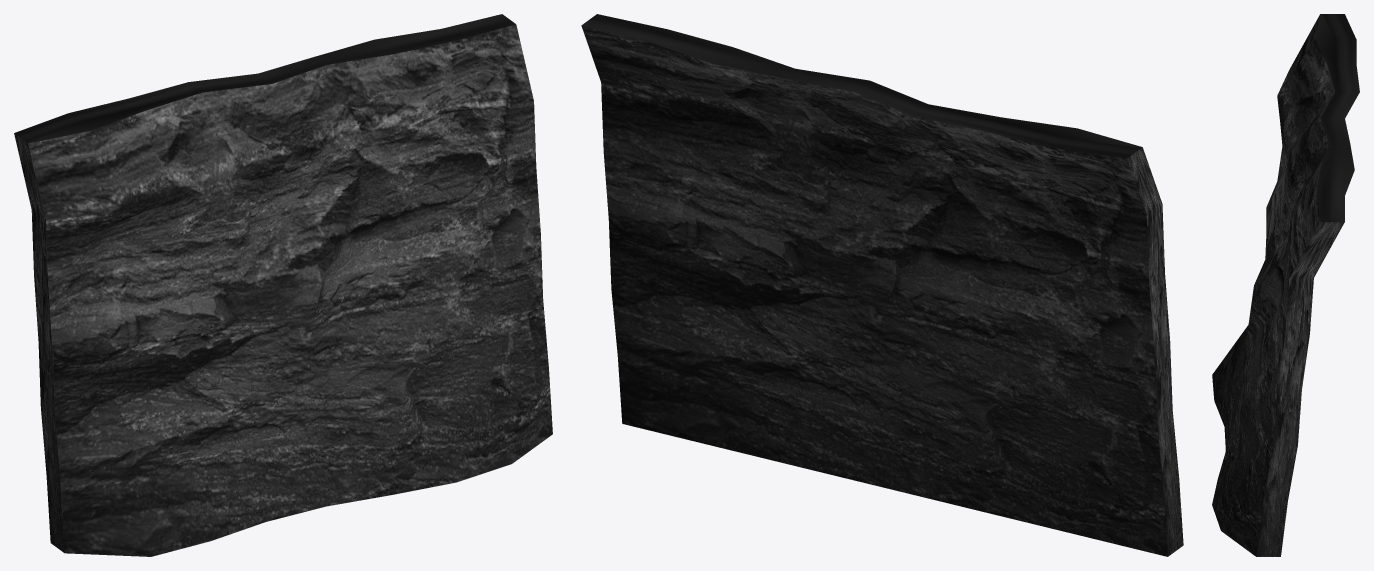
Rendered from Wand_Mitte.fbx.
The picture shows the model from 3 angles, left to right: view 1: azimuth 30°, elevation 25°; view 2: azimuth 150°, elevation 25°; view 3: azimuth 270°, elevation 25°; orthographic projection. The views are drawn at different scales.
Parts seen in each view (by area): view 1: Box001; view 2: Box001; view 3: Box001.
Boxes of the visible parts, x1=… form: Box001: x1=14, y1=14, x2=552, y2=556; Box001: x1=581, y1=14, x2=1183, y2=556; Box001: x1=1212, y1=14, x2=1359, y2=556.
Size of the model in its own units: 20 by 15 by 6.01.
1 material, 1 textured.
